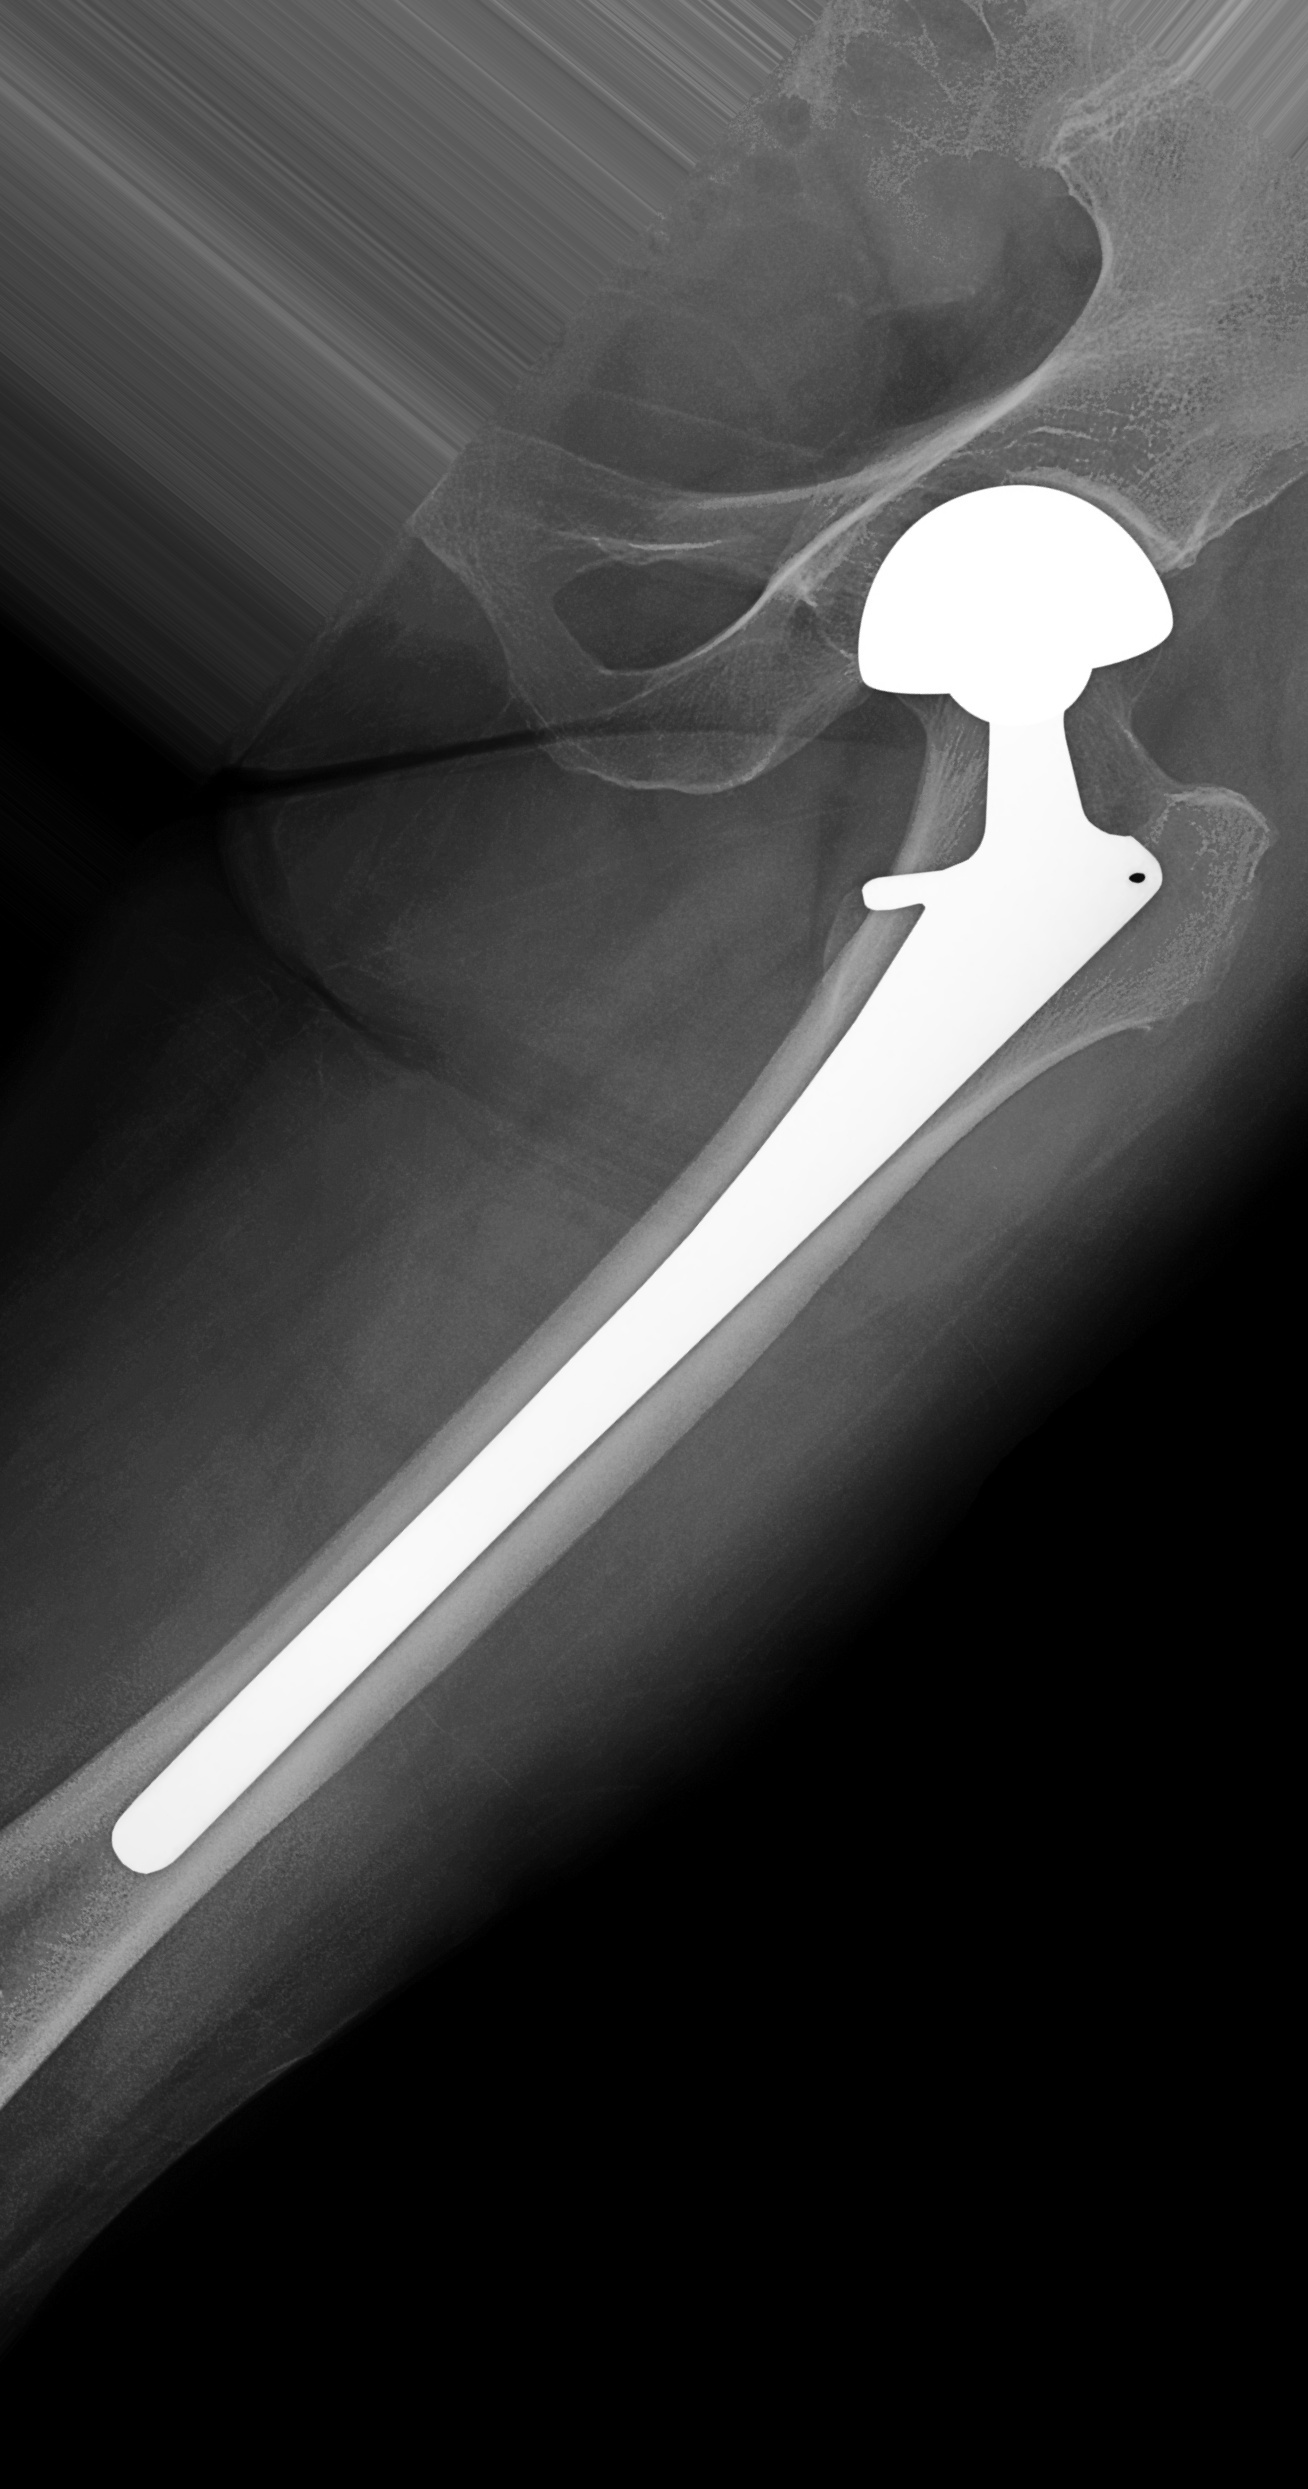Hip - Bias - Zimmer: (53, 431, 1218, 1982)
